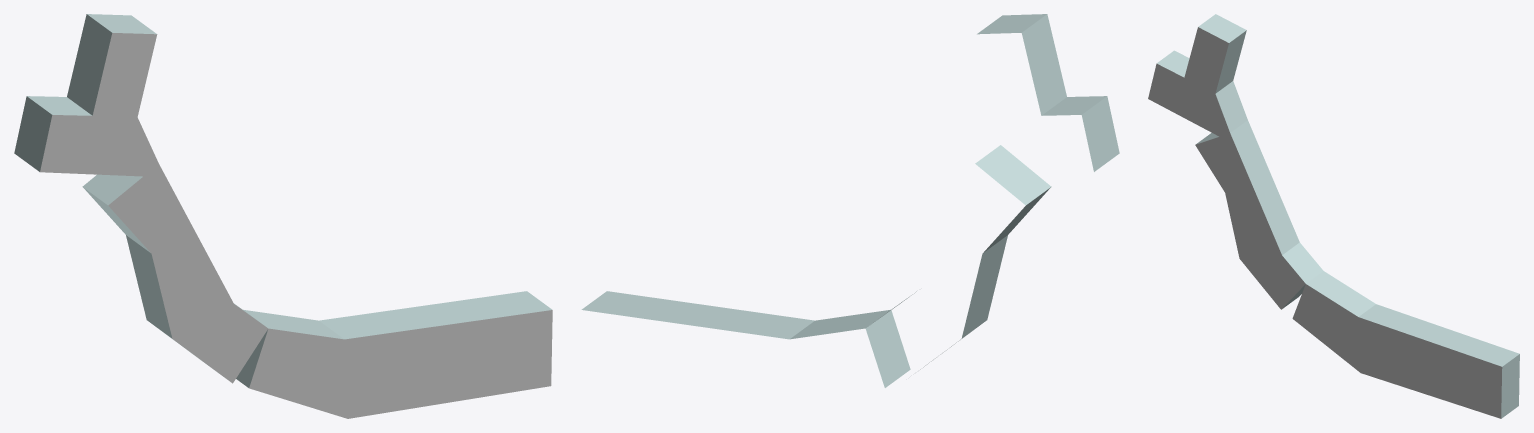
The picture shows the model from 3 angles, left to right: view 1: azimuth 30°, elevation 25°; view 2: azimuth 150°, elevation 25°; view 3: azimuth 330°, elevation 25°; orthographic projection. The views are drawn at different scales.
Parts seen in each view (by area): view 1: 0_3_1_0_1_0_1_2_2; view 2: 0_3_1_0_1_0_1_2_2; view 3: 0_3_1_0_1_0_1_2_2.
Part boxes in pixels (box(x1,y1,x2,y2)): 0_3_1_0_1_0_1_2_2: box(14, 14, 552, 418); 0_3_1_0_1_0_1_2_2: box(581, 14, 1119, 387); 0_3_1_0_1_0_1_2_2: box(1148, 14, 1519, 418).
Size of the model in its own units: 34.52 by 29.62 by 3.
